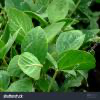Soyabean leaf: (55, 47, 97, 74), (20, 25, 47, 65), (8, 4, 34, 45), (56, 29, 86, 60), (17, 51, 44, 79)
